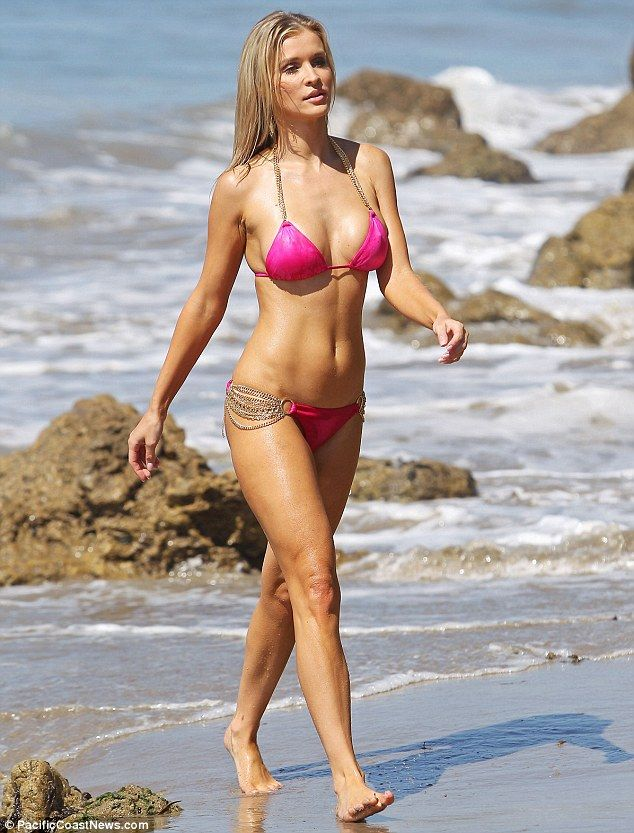Person: (115, 5, 476, 820)
